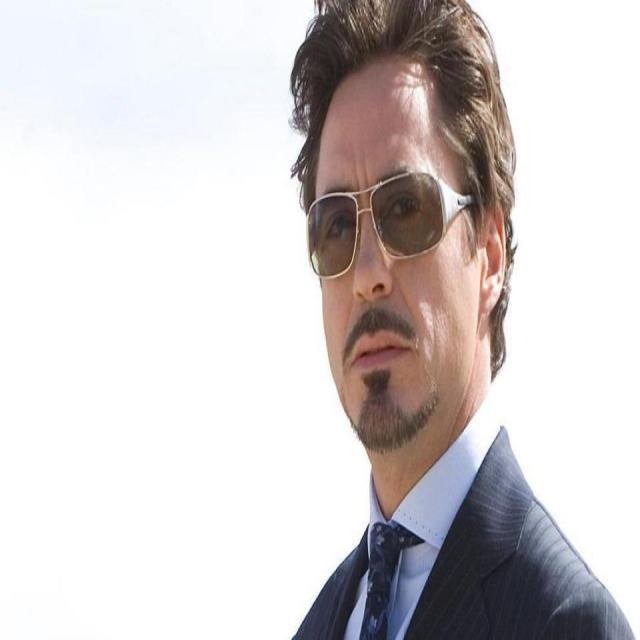human: (271, 1, 638, 640)
